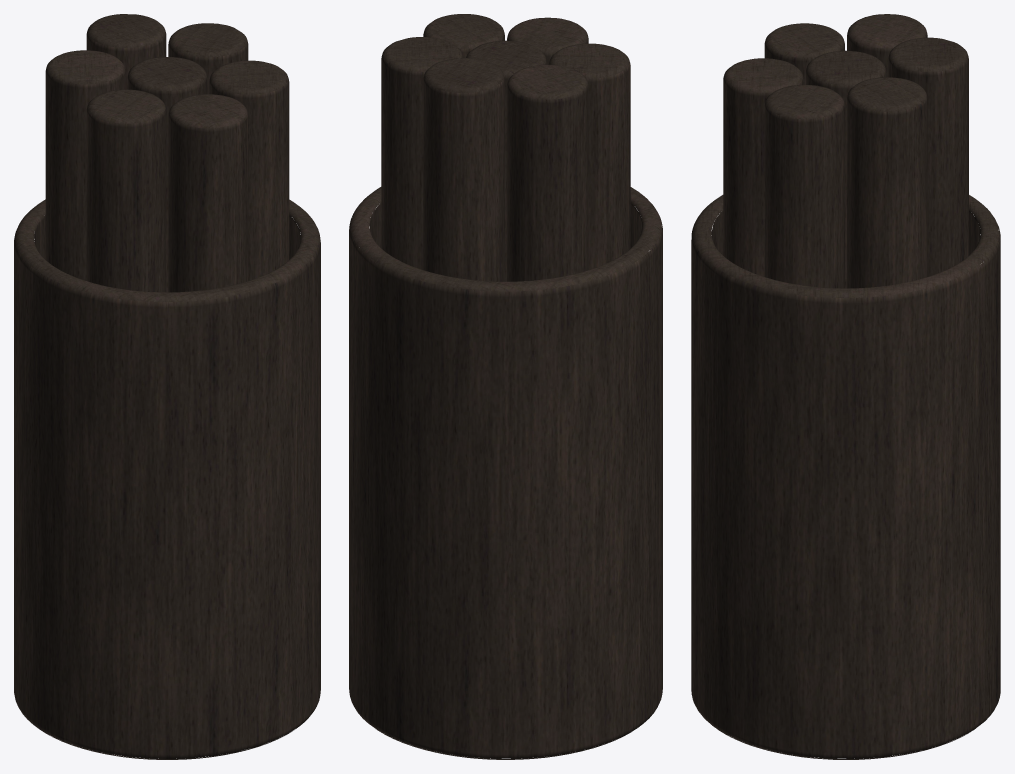
Rendered from king-black.glb.
3 views of the same model, side by side, from view 1: azimuth 30°, elevation 25°; view 2: azimuth 150°, elevation 25°; view 3: azimuth 270°, elevation 25° (orthographic). The views are drawn at different scales.
Visible parts, largest first — view 1: Cylindra_Král_černý; view 2: Cylindra_Král_černý; view 3: Cylindra_Král_černý.
Part boxes in pixels (x1=…): Cylindra_Král_černý: x1=14, y1=14, x2=320, y2=759; Cylindra_Král_černý: x1=349, y1=14, x2=662, y2=759; Cylindra_Král_černý: x1=691, y1=14, x2=1000, y2=759.
Size of the model in its own units: 0.5343 by 1.23 by 0.5346.
Materials: 2 (2 with a texture image).
